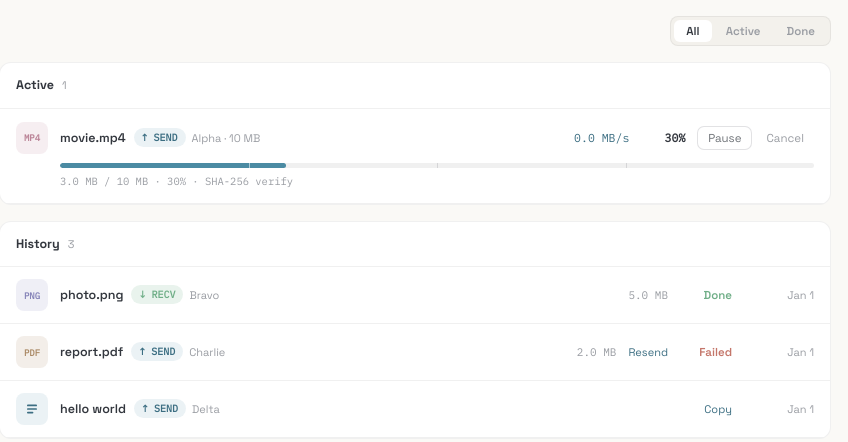
Test: TransfersPage › segmented filter hides History on 'active' and Running on 'done'
Expected: the text "movie.mp4" is shown, [60,130,126,146]
Expected: the text "History" is shown, [16,234,60,253]
# 'active' → History card gone, Running row stays.
Click the button "Active". click: (743, 31)
box: [714,20,772,42]
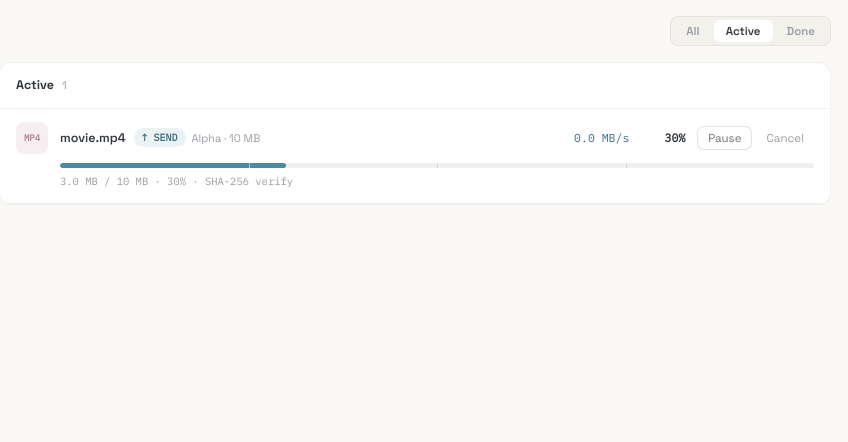
Expected: the text "movie.mp4" is shown, [60,130,126,146]
Expected: the text "History" is gone
# 'done' → Running card gone, History rows stay.
Click the button "Done". click: (801, 31)
box: [774,20,827,42]
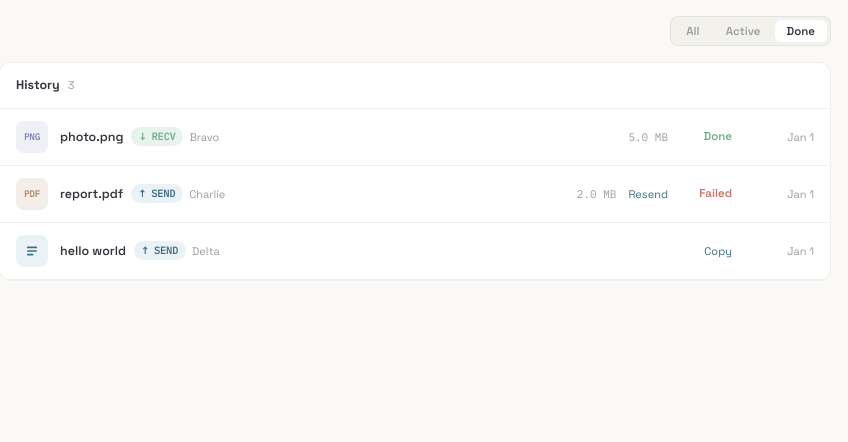
Expected: the button "movie.mp4" is gone
Expected: the text "History" is shown, [16,76,60,95]
Expected: the text "photo.png" is shown, [60,129,124,145]
